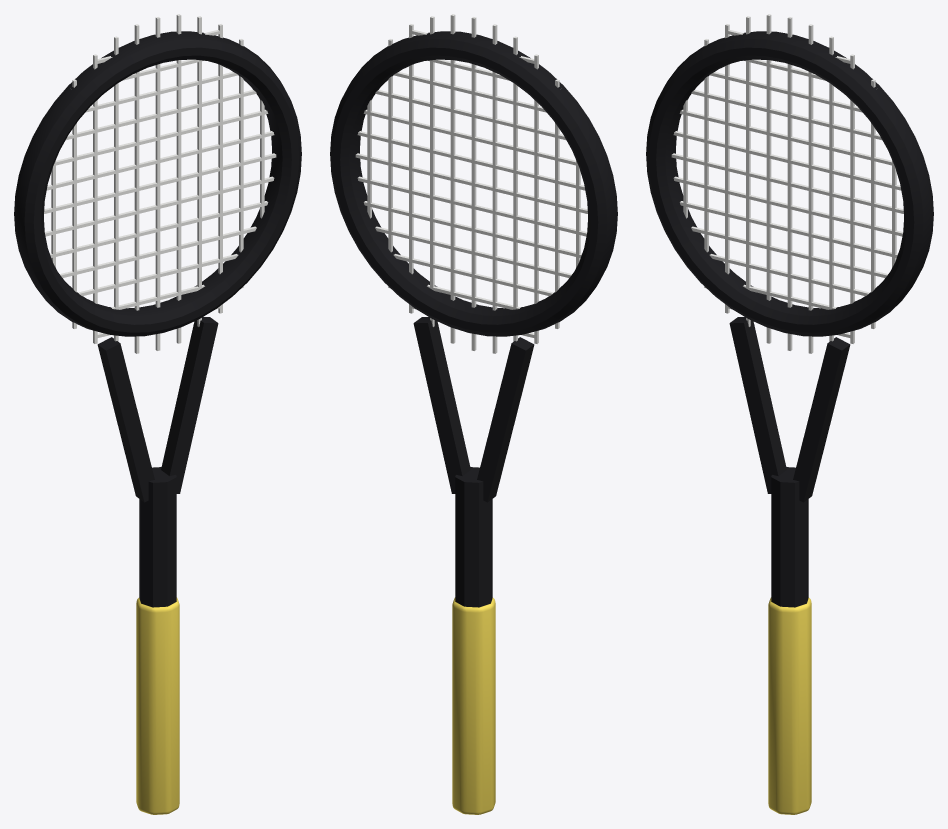
Rendered from racket.glb.
3 renders of one model, left to right at view 1: azimuth 30°, elevation 25°; view 2: azimuth 150°, elevation 25°; view 3: azimuth 330°, elevation 25°, orthographic.
Visible parts, largest first — view 1: hoop, grip.001, shaft, throatR, throatL, sv0, sv-1, sv1, sh0, sv-2, sh-1, sh1 (+12 smaller); view 2: hoop, grip.001, shaft, throatR, throatL, sv0, sv-1, sv1, sh0, sh1, sh-1, sv-2 (+12 smaller); view 3: hoop, grip.001, shaft, throatL, throatR, sv0, sv1, sv-1, sh0, sh1, sh-1, sv2 (+12 smaller).
Part boxes in pixels (left/top/right/bottom): hoop: left=14, top=31, right=301, bottom=336; grip.001: left=136, top=597, right=179, bottom=814; shaft: left=139, top=467, right=176, bottom=607; throatR: left=161, top=317, right=218, bottom=493; throatL: left=97, top=337, right=154, bottom=502; sv0: left=155, top=17, right=160, bottom=350; sv-1: left=134, top=24, right=139, bottom=353; sv1: left=176, top=14, right=181, bottom=343; sh0: left=44, top=153, right=276, bottom=213; sv-2: left=114, top=36, right=118, bottom=341; sh-1: left=44, top=176, right=274, bottom=236; sh1: left=46, top=131, right=274, bottom=190; hoop: left=330, top=31, right=617, bottom=336; grip.001: left=452, top=597, right=495, bottom=814; shaft: left=455, top=467, right=492, bottom=607; throatR: left=413, top=317, right=470, bottom=493; throatL: left=477, top=337, right=534, bottom=502; sv0: left=471, top=17, right=476, bottom=350; sv-1: left=492, top=24, right=497, bottom=353; sv1: left=450, top=14, right=455, bottom=343; sh0: left=355, top=153, right=587, bottom=213; sh1: left=357, top=131, right=585, bottom=190; sh-1: left=357, top=176, right=587, bottom=236; sv-2: left=513, top=36, right=517, bottom=341; hoop: left=646, top=31, right=933, bottom=336; grip.001: left=768, top=597, right=811, bottom=814; shaft: left=771, top=467, right=808, bottom=607; throatL: left=729, top=317, right=786, bottom=493; throatR: left=793, top=337, right=850, bottom=502; sv0: left=787, top=17, right=792, bottom=350; sv1: left=808, top=24, right=813, bottom=353; sv-1: left=766, top=14, right=771, bottom=343; sh0: left=671, top=153, right=903, bottom=213; sh1: left=673, top=131, right=901, bottom=190; sh-1: left=673, top=176, right=903, bottom=236; sv2: left=829, top=36, right=833, bottom=341.
Size of the model in its own units: 0.284 by 0.76 by 0.038.
